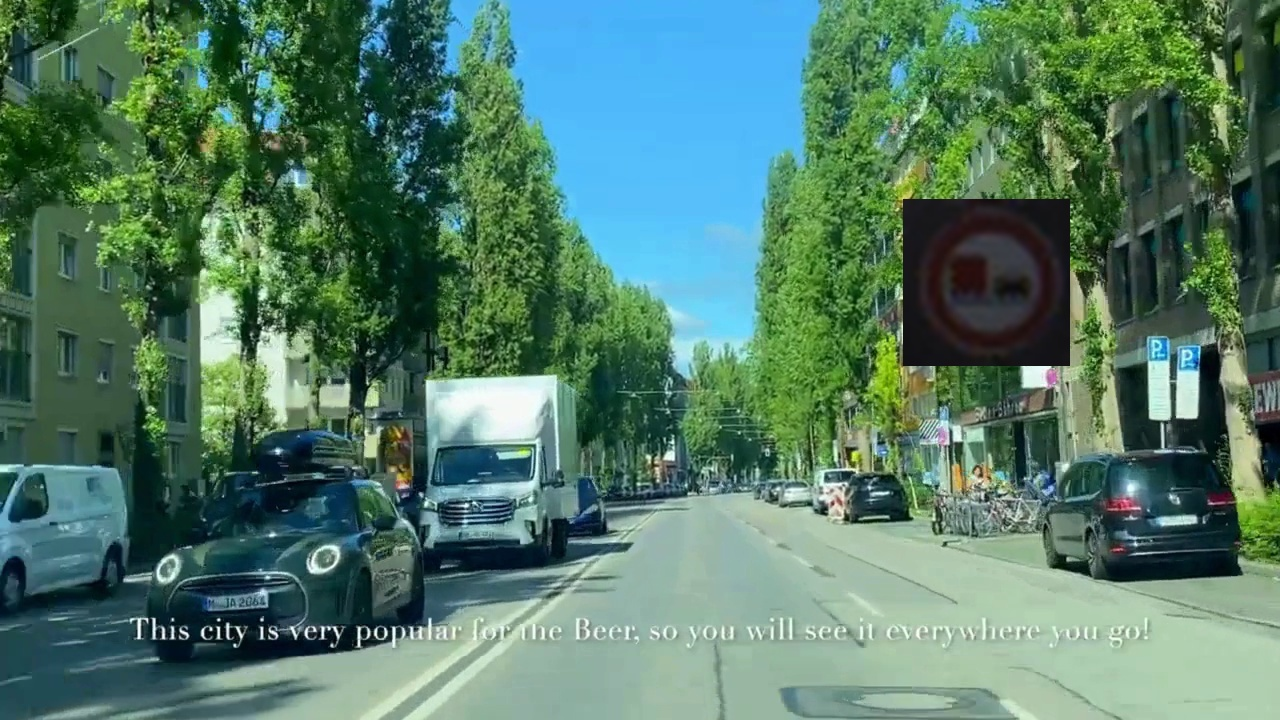No pass >3.5t: (903, 199, 1070, 366)
